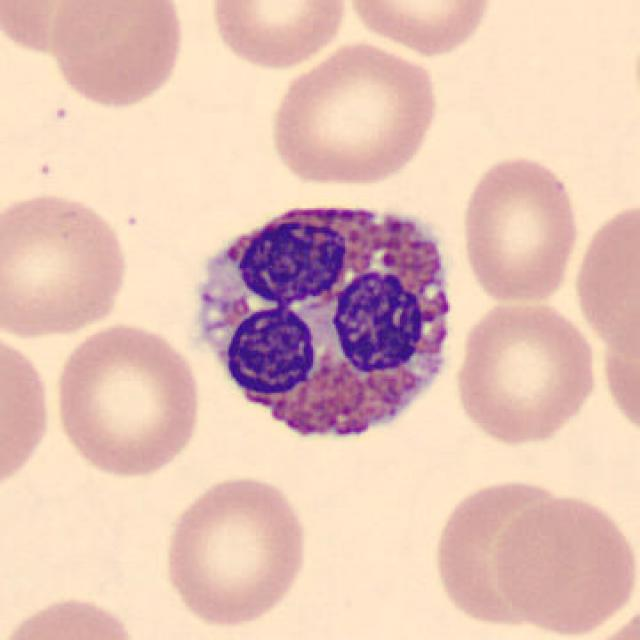Eosinophil: (176, 174, 473, 470)
RBC: (265, 39, 443, 190), (156, 469, 313, 631), (50, 319, 206, 481), (428, 474, 576, 630), (450, 296, 601, 448), (489, 490, 638, 637), (0, 187, 133, 342), (457, 150, 583, 307), (46, 0, 188, 111), (569, 194, 640, 363), (204, 0, 351, 72), (0, 326, 57, 499), (343, 0, 498, 58), (0, 0, 124, 60), (0, 590, 146, 640), (581, 597, 639, 640)
